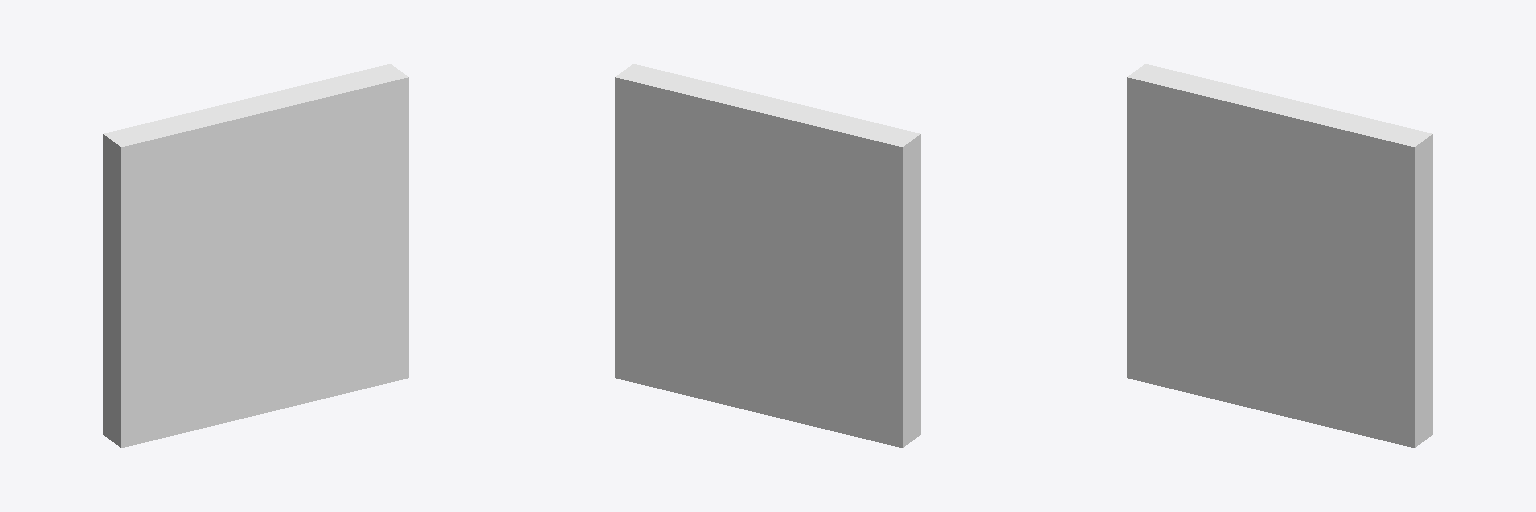
Rendered from House-6-GarageDoor.obj.
3 renders of one model, left to right at view 1: azimuth 30°, elevation 25°; view 2: azimuth 150°, elevation 25°; view 3: azimuth 330°, elevation 25°, orthographic.
Parts seen in each view (by area): view 1: GarageDoor; view 2: GarageDoor; view 3: GarageDoor.
Part boxes in pixels (x1,y1,x2,y2): GarageDoor: (103, 64, 408, 447); GarageDoor: (615, 64, 920, 447); GarageDoor: (1127, 64, 1432, 447).
Size of the model in its own units: 0.9 by 0.9 by 0.1.